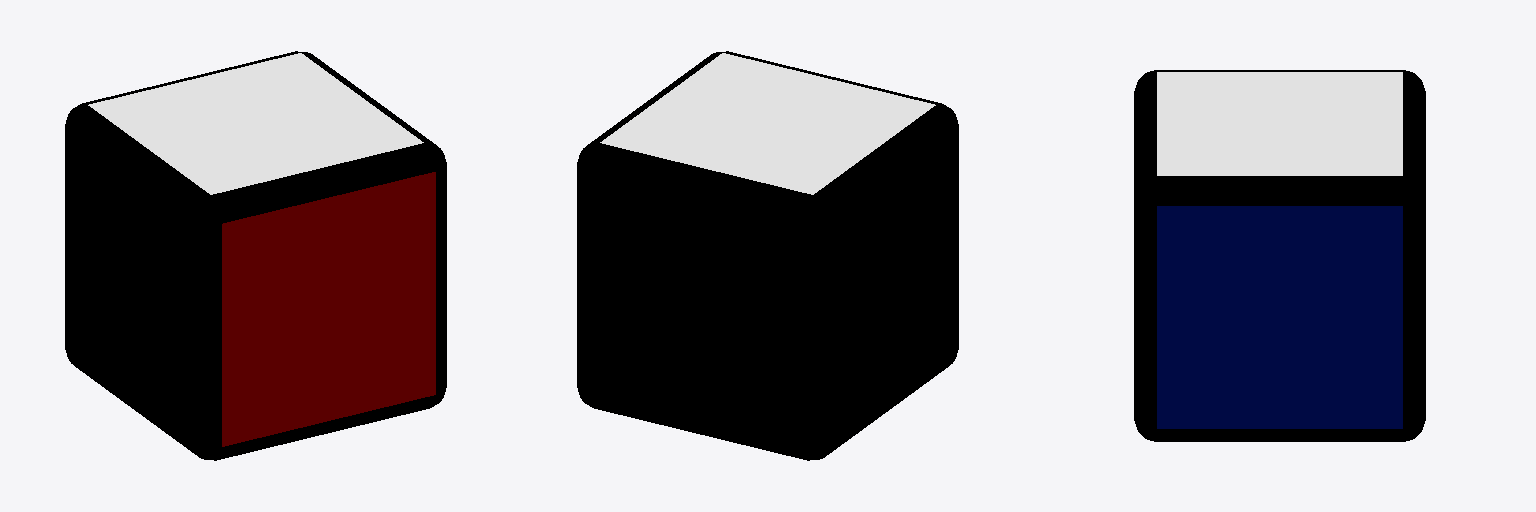
The model's file is piece_000.obj.
3 renders of one model, left to right at view 1: azimuth 30°, elevation 25°; view 2: azimuth 150°, elevation 25°; view 3: azimuth 270°, elevation 25°, orthographic.
Parts seen in each view (by area): view 1: Cube.013_Cube.014; view 2: Cube.013_Cube.014; view 3: Cube.013_Cube.014.
Boxes of the visible parts, x1=… form: Cube.013_Cube.014: x1=65, y1=51, x2=446, y2=460; Cube.013_Cube.014: x1=577, y1=51, x2=958, y2=460; Cube.013_Cube.014: x1=1134, y1=70, x2=1425, y2=441.
Size of the model in its own units: 2 by 2 by 2.